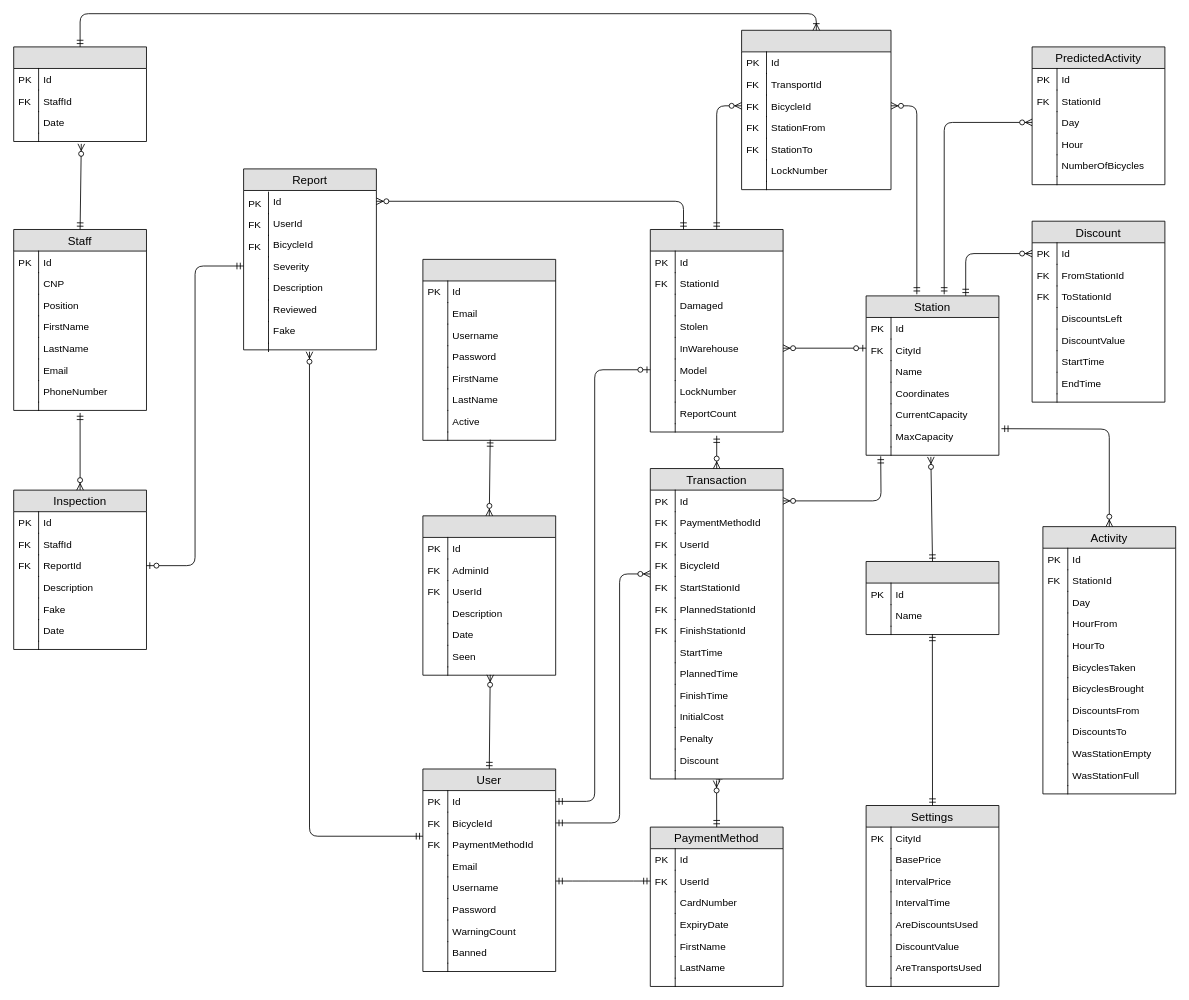
This 1189x1000 diagram has some shape labels left out. Each missing label, with the box of its shape:
Admin: (422, 259, 556, 440)
Bicycle: (649, 229, 783, 432)
City: (865, 561, 999, 635)
Message: (422, 515, 556, 675)
Transport: (13, 46, 146, 142)
TransportLine: (741, 29, 891, 190)
